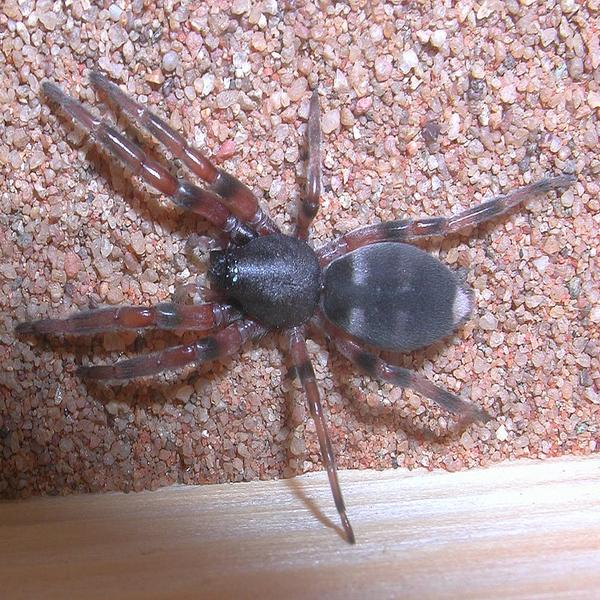White-Tailed Spider: (46, 73, 570, 531)
